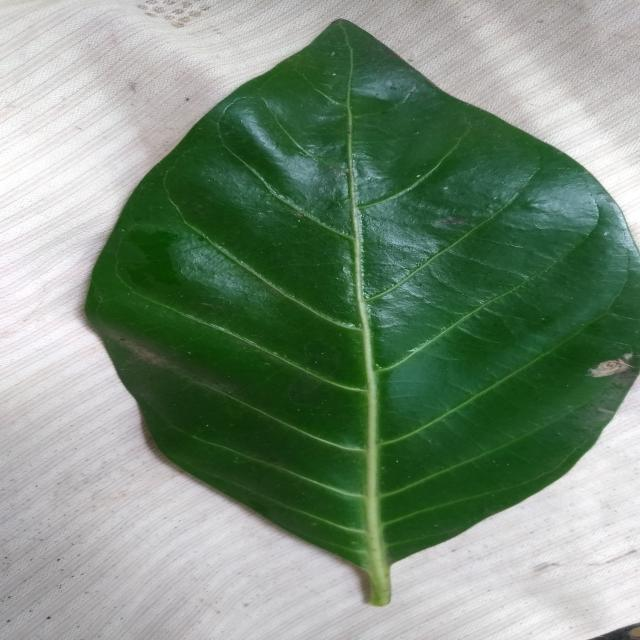nooni: (87, 20, 638, 605)
